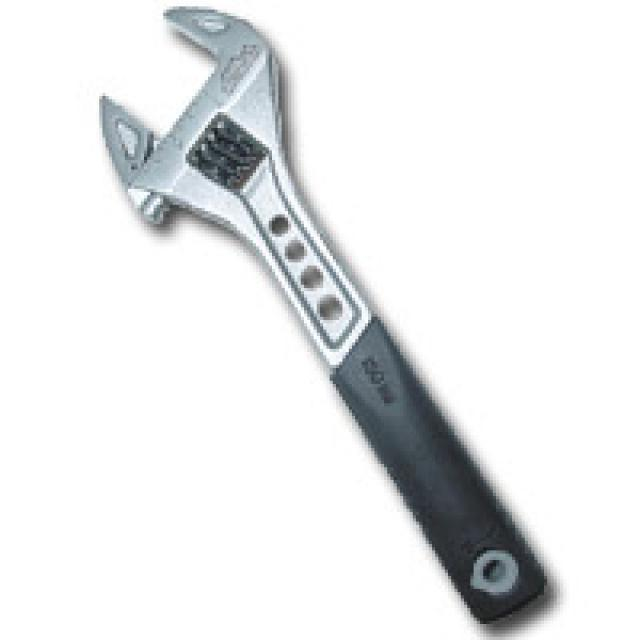wrench: (92, 0, 556, 628)
